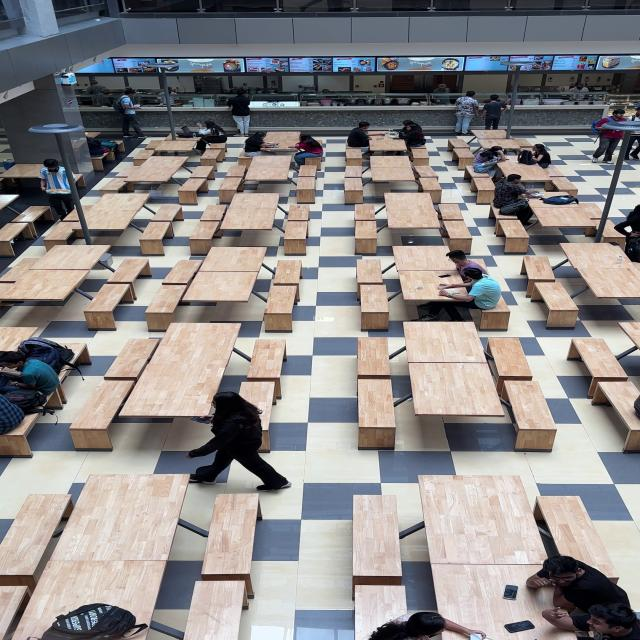Occupied: (8, 561, 173, 640), (436, 565, 593, 639), (525, 554, 631, 620), (547, 601, 639, 640), (380, 612, 481, 640), (354, 585, 405, 636), (1, 354, 59, 398), (14, 338, 78, 374), (399, 271, 469, 303), (40, 160, 76, 219), (488, 171, 534, 215), (454, 267, 503, 308), (446, 249, 488, 280), (2, 387, 48, 412), (48, 367, 76, 407), (290, 136, 324, 168), (194, 123, 228, 152), (473, 146, 505, 174), (244, 132, 276, 158), (399, 124, 426, 152), (525, 202, 571, 218), (346, 120, 373, 147), (498, 150, 534, 165), (530, 144, 552, 168), (164, 126, 199, 139), (258, 142, 301, 152), (87, 137, 108, 157), (541, 195, 578, 205), (366, 132, 404, 140), (0, 366, 20, 374), (530, 192, 546, 198)
Unoccupied: (48, 473, 194, 562), (420, 474, 546, 565), (0, 494, 74, 587), (408, 363, 504, 418), (200, 492, 262, 577), (352, 495, 399, 599), (540, 493, 599, 573), (128, 364, 219, 415), (68, 382, 138, 448), (558, 244, 640, 299), (502, 380, 560, 450), (180, 580, 248, 639), (147, 322, 242, 362), (0, 269, 94, 309), (401, 322, 486, 364), (114, 156, 192, 198), (354, 378, 399, 443), (484, 338, 534, 396), (526, 199, 601, 237), (382, 195, 442, 242), (180, 270, 261, 304), (217, 196, 281, 233), (533, 282, 583, 329), (246, 342, 286, 400), (84, 191, 140, 232), (238, 156, 297, 194), (574, 338, 630, 378), (27, 246, 113, 272), (105, 340, 162, 378), (82, 286, 132, 328), (105, 258, 152, 300), (136, 199, 184, 240), (144, 284, 188, 328), (238, 380, 276, 430), (198, 246, 269, 271), (0, 584, 32, 639), (390, 245, 452, 272), (521, 255, 557, 299), (526, 222, 594, 244), (0, 164, 52, 191), (358, 339, 393, 377), (371, 155, 418, 182), (5, 203, 52, 230), (194, 204, 228, 238), (161, 260, 204, 286), (501, 162, 547, 185), (497, 219, 530, 250), (1, 259, 38, 286), (264, 284, 298, 313), (469, 130, 513, 152), (188, 222, 220, 252), (42, 223, 80, 247), (442, 218, 472, 248), (0, 325, 39, 348), (272, 261, 302, 290), (592, 218, 628, 242), (216, 174, 248, 201), (0, 223, 31, 248), (177, 179, 209, 203), (469, 174, 497, 201), (411, 164, 440, 190), (356, 259, 383, 286), (369, 138, 409, 156), (618, 322, 640, 352), (284, 220, 308, 247), (294, 176, 317, 203), (448, 146, 476, 168), (186, 166, 216, 186), (546, 176, 579, 194), (156, 140, 198, 153), (97, 178, 131, 194), (199, 148, 225, 168), (223, 164, 249, 184), (438, 204, 466, 222), (344, 165, 364, 190), (464, 165, 488, 183), (509, 138, 535, 154), (287, 204, 310, 222), (131, 149, 157, 164), (296, 163, 320, 179), (409, 147, 429, 165), (264, 131, 303, 140), (345, 147, 364, 165), (447, 138, 471, 152), (59, 498, 74, 520), (206, 142, 228, 153), (144, 140, 167, 150), (74, 172, 86, 188)
